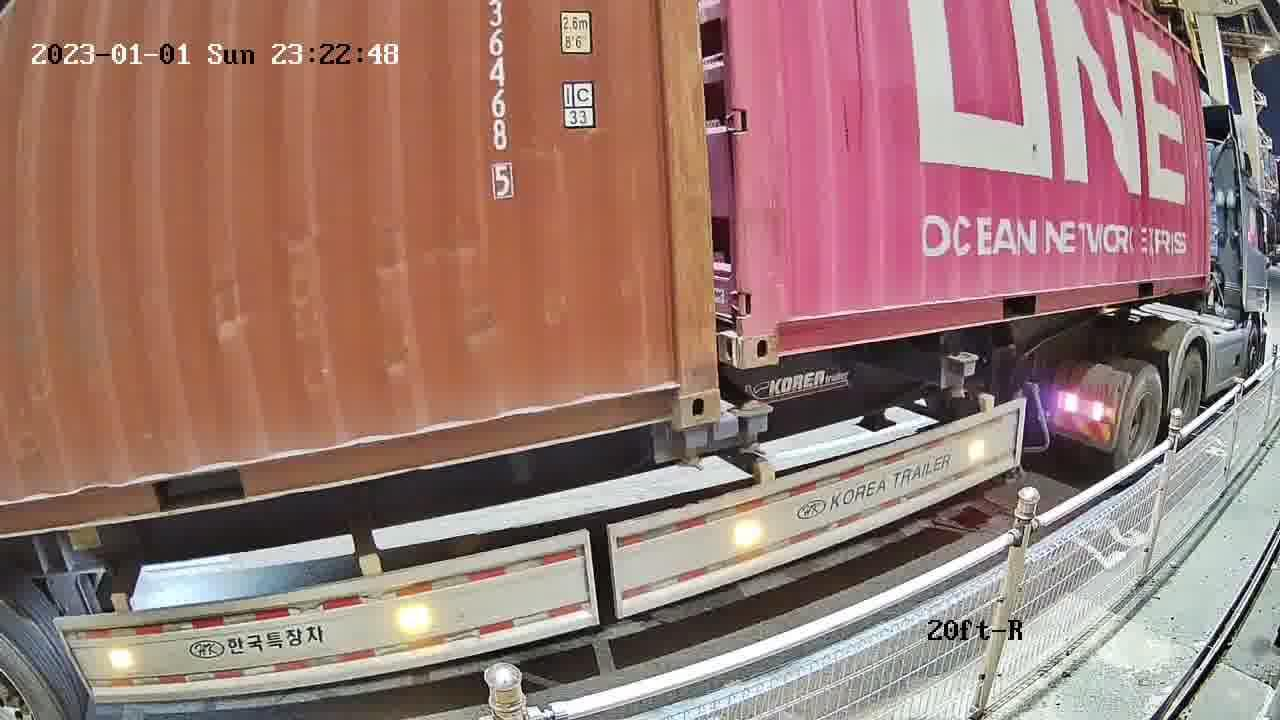Cone: (732, 397, 775, 459), (673, 427, 714, 474)
Hole_L: (742, 292, 813, 370)
Hole_R: (635, 353, 720, 433)
Tire: (1118, 368, 1162, 471), (1170, 350, 1204, 445)
